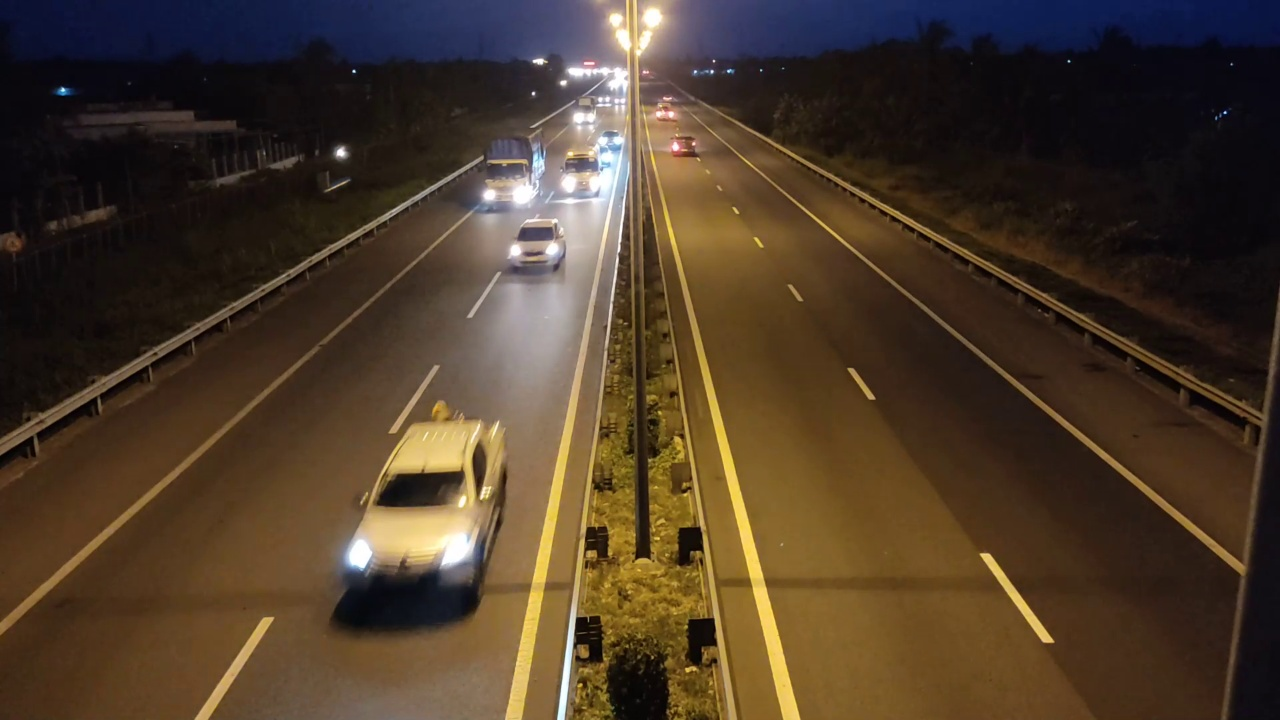car: (339, 417, 509, 611), (507, 217, 567, 274), (669, 134, 699, 157)
